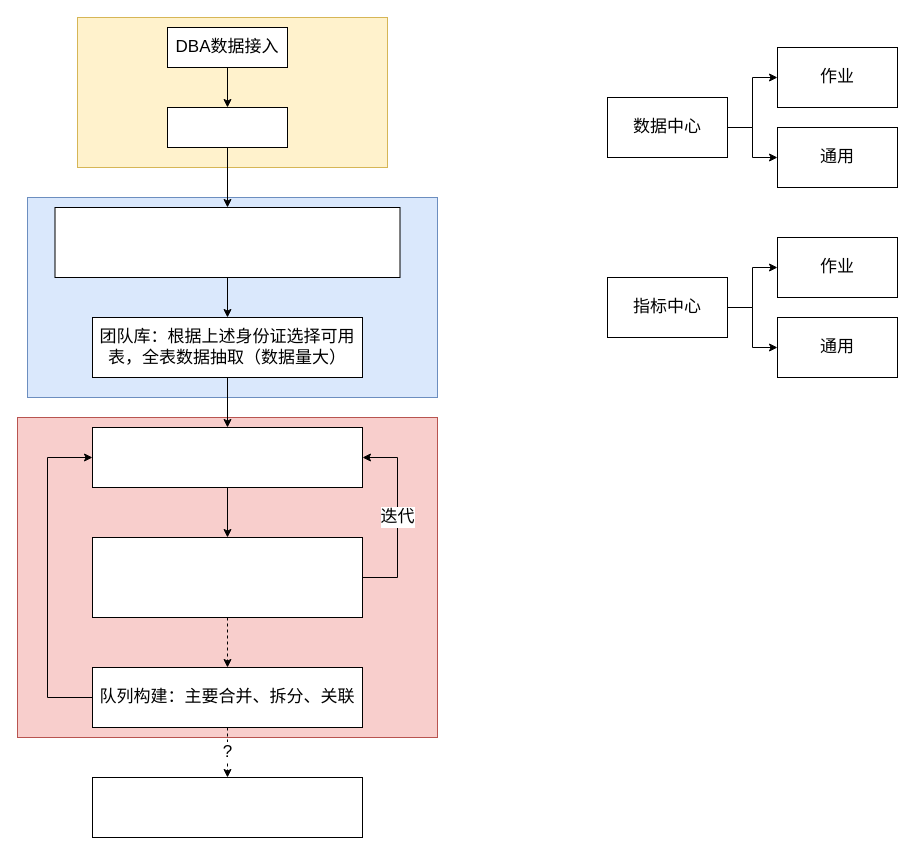
Some shapes in this 915 by 855 pixel diagram are drawn without their labels. The box of each missing label's shape, as (x1, y1, x2, y2) in pixels:
分析中心: (92, 776, 362, 838)
基线（粗）：每个表配置sql语句抽取身份信息（此处要求每一个表都有身份证、时间）: (54, 206, 400, 278)
数据治理优化中心（字段级别），基于增加新列和增加新表: (92, 536, 362, 618)
标准数据集（2018）: (166, 106, 288, 148)
项目库：选择字段和表生成项目库: (92, 426, 362, 488)
